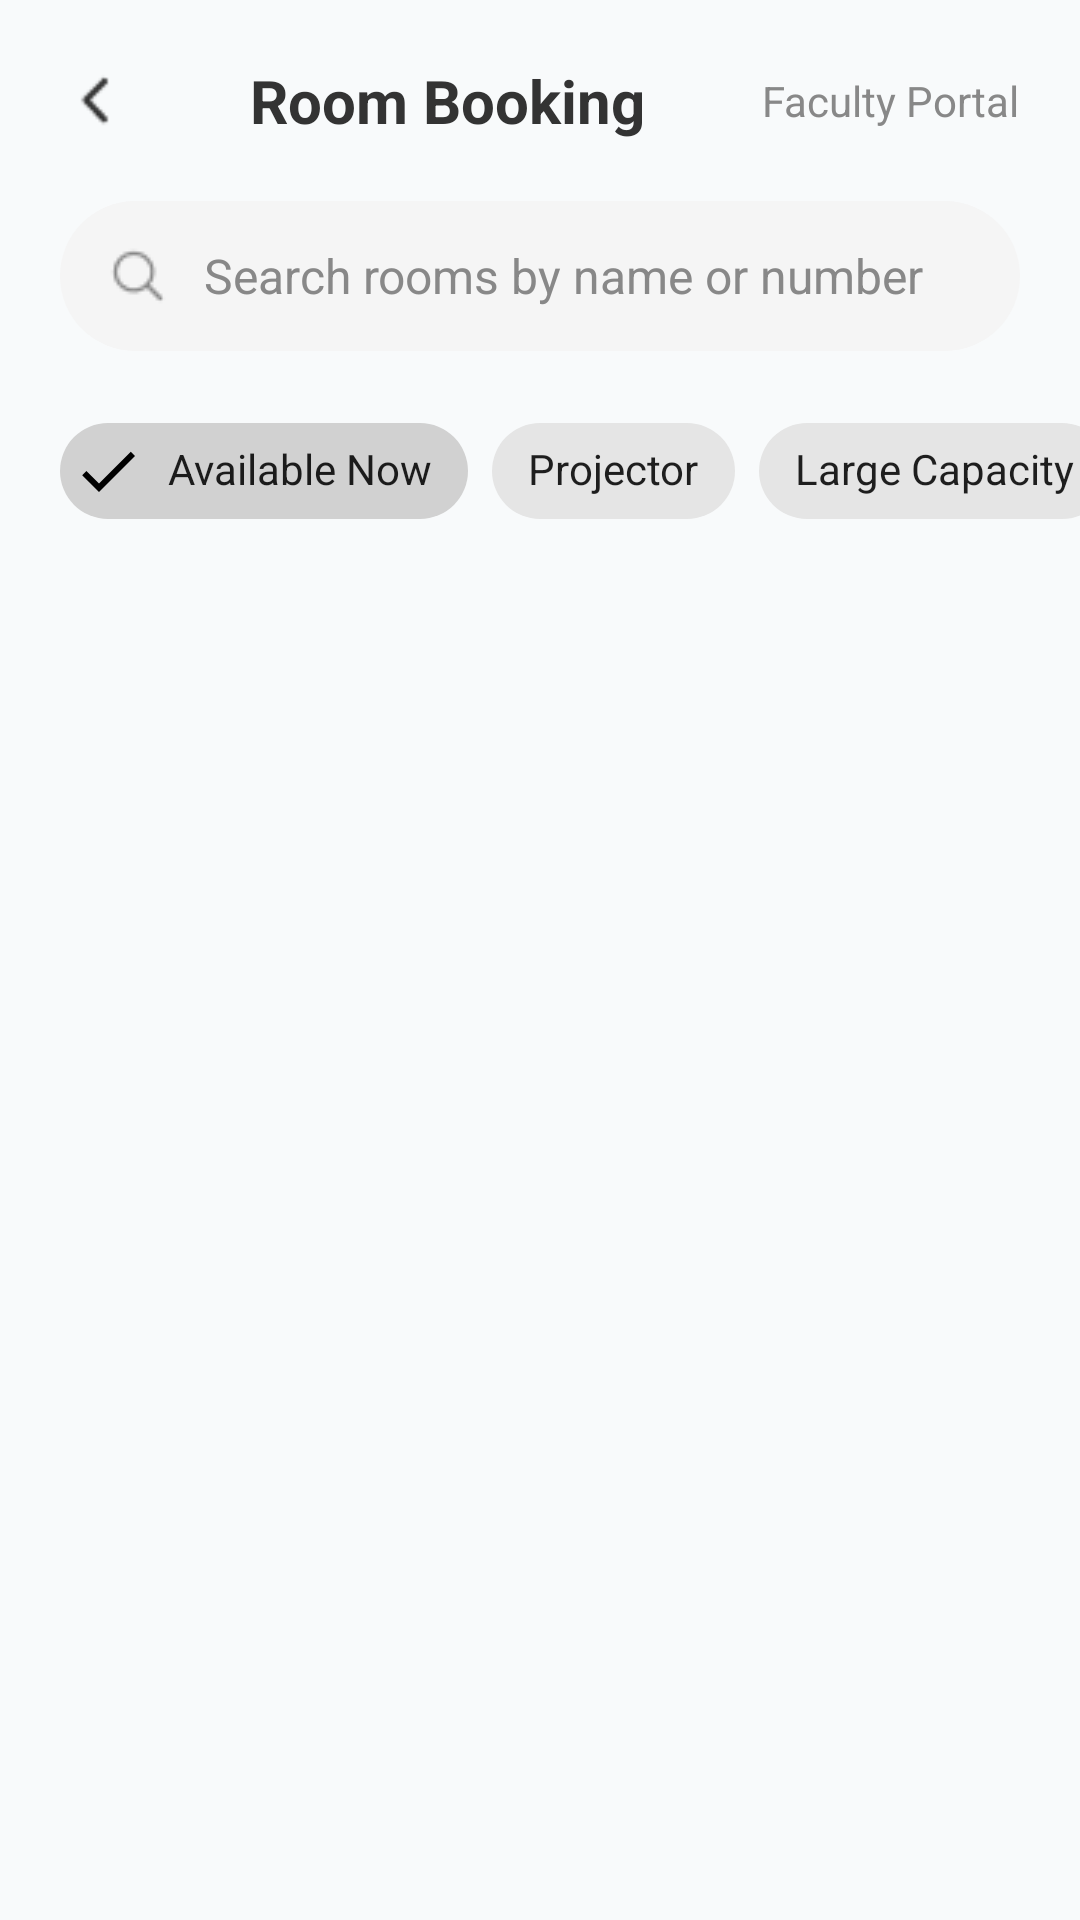

Named icons in this screenshot (1080px x 1920px) and their centers, [x,y]:
Back: [95,100]
